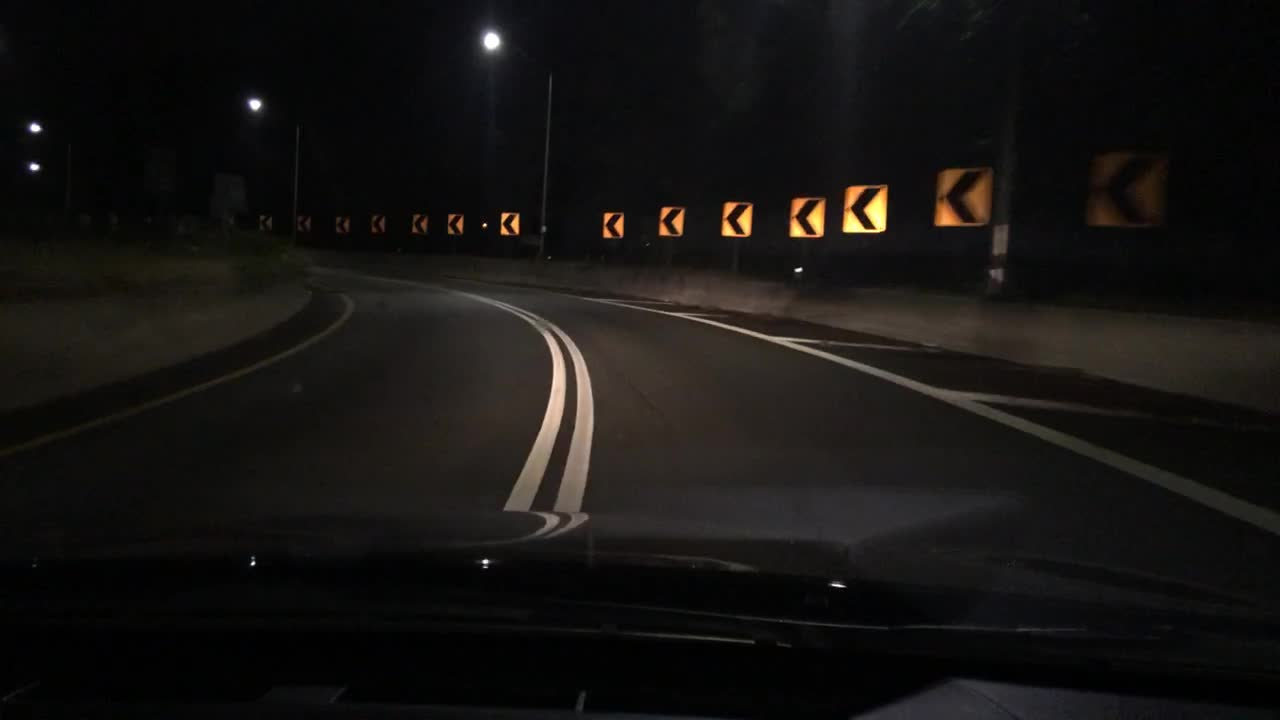traffic sign: (1089, 150, 1163, 226), (937, 166, 989, 224), (844, 184, 887, 235), (788, 197, 825, 238), (721, 200, 754, 238), (658, 206, 684, 236), (497, 209, 521, 236), (601, 212, 624, 238), (407, 212, 432, 235), (254, 209, 277, 232), (331, 212, 352, 235), (291, 212, 312, 233), (444, 212, 463, 235), (366, 212, 386, 233)
